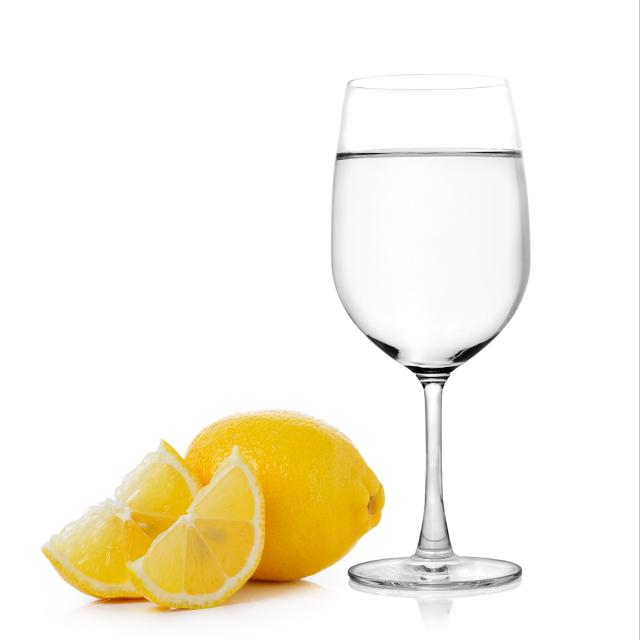lemon: (34, 432, 272, 612)
